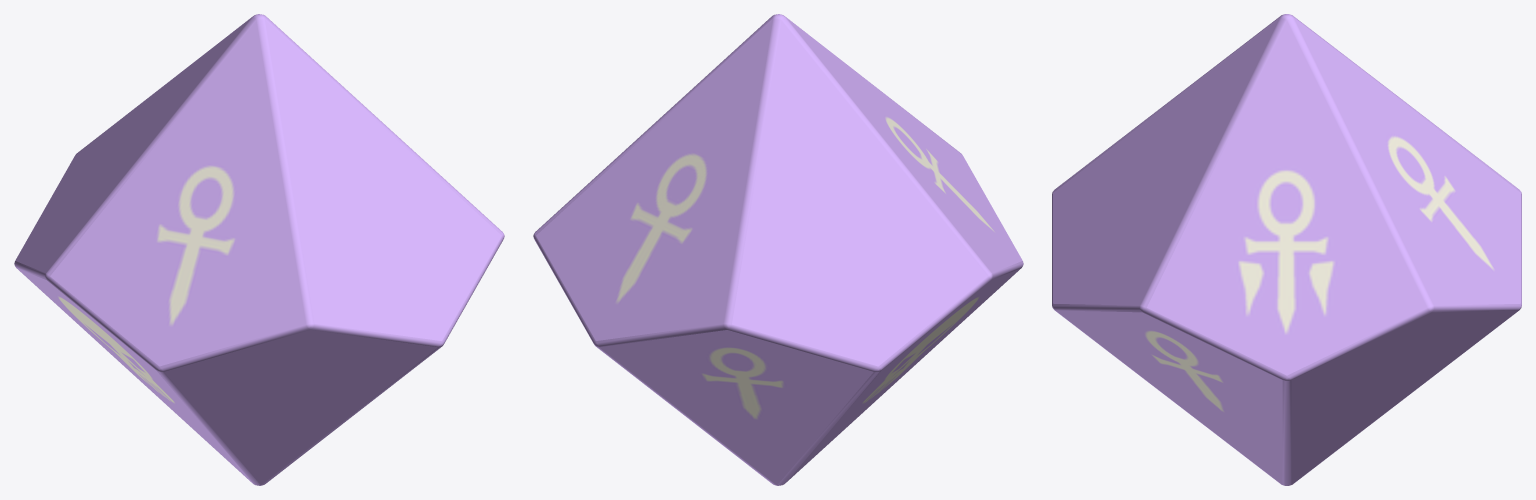
Rendered from vtmviolet_d10.glb.
The picture shows the model from 3 angles, left to right: view 1: azimuth 30°, elevation 25°; view 2: azimuth 150°, elevation 25°; view 3: azimuth 270°, elevation 25°; orthographic projection.
Visible parts, largest first — view 1: vtmviolet_shell; view 2: vtmviolet_shell; view 3: vtmviolet_shell.
Part boxes in pixels (box(x1,y1,x2,y2)): vtmviolet_shell: box(14, 14, 504, 485); vtmviolet_shell: box(533, 14, 1023, 485); vtmviolet_shell: box(1052, 14, 1521, 485).
Bounding box in the file's own units: 1.86 × 1.95 × 1.77.
3 materials, 1 textured.
